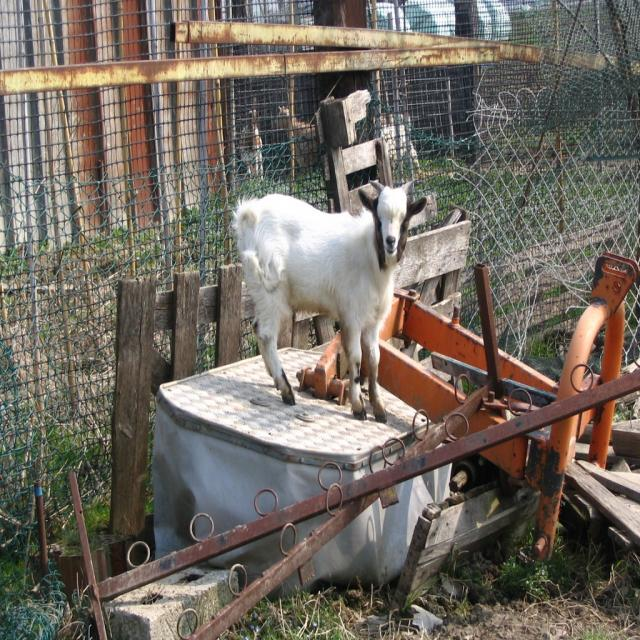Goat: (225, 175, 440, 423)
